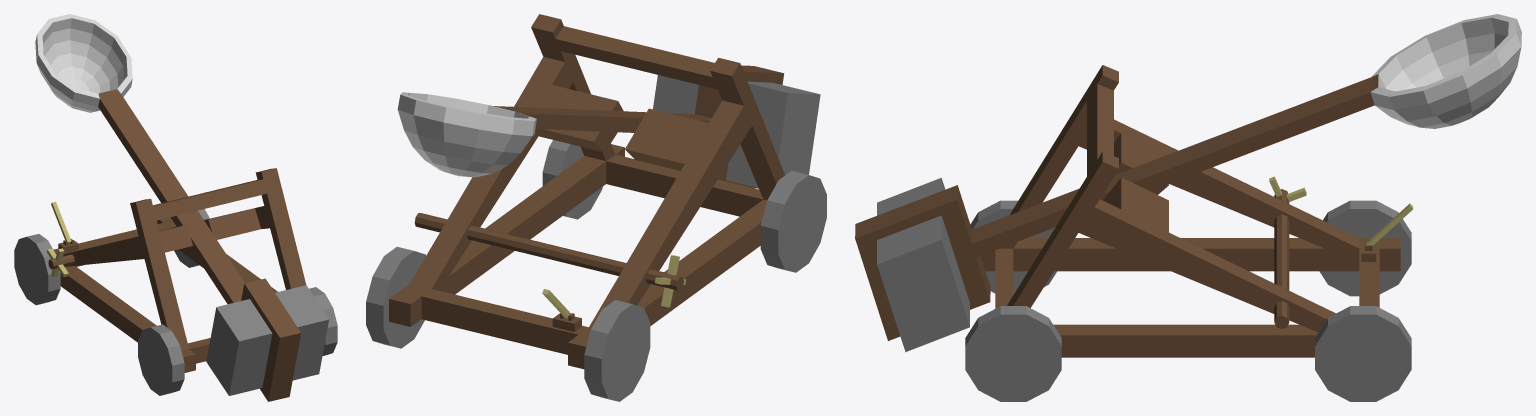
The model's file is catapult.fbx.
The picture shows the model from 3 angles, left to right: view 1: azimuth 30°, elevation 25°; view 2: azimuth 150°, elevation 25°; view 3: azimuth 270°, elevation 25°; orthographic projection. The views are drawn at different scales.
Visible parts, largest first — view 1: spoon, base, stone, wheel2, wheel3, wheel1, spiner; view 2: base, spoon, stone, wheel3, wheel2, spiner, wheel4, wheel1, leverBase; view 3: base, spoon, stone, wheel1, wheel4, wheel3, spiner, wheel2.
Part boxes in pixels (<box>): spoon: <box>35,14,301,401</box>; base: <box>53,168,306,372</box>; stone: <box>206,285,329,395</box>; wheel2: <box>138,324,184,395</box>; wheel3: <box>14,234,60,305</box>; wheel1: <box>309,287,337,355</box>; spiner: <box>47,248,74,277</box>; base: <box>389,14,784,369</box>; spoon: <box>397,65,784,188</box>; stone: <box>653,75,820,187</box>; wheel3: <box>584,300,650,401</box>; wheel2: <box>760,171,826,272</box>; spiner: <box>414,213,686,307</box>; wheel4: <box>366,246,425,348</box>; wheel1: <box>542,140,602,219</box>; leverBase: <box>552,313,581,331</box>; base: <box>980,65,1400,357</box>; spoon: <box>855,14,1521,340</box>; stone: <box>877,177,969,352</box>; wheel1: <box>965,306,1061,401</box>; wheel4: <box>1315,306,1411,401</box>; wheel3: <box>1319,200,1411,296</box>; spiner: <box>1269,176,1306,328</box>; wheel2: <box>970,200,1056,294</box>.
Bounding box in the file's own units: 120 × 141 × 267.
